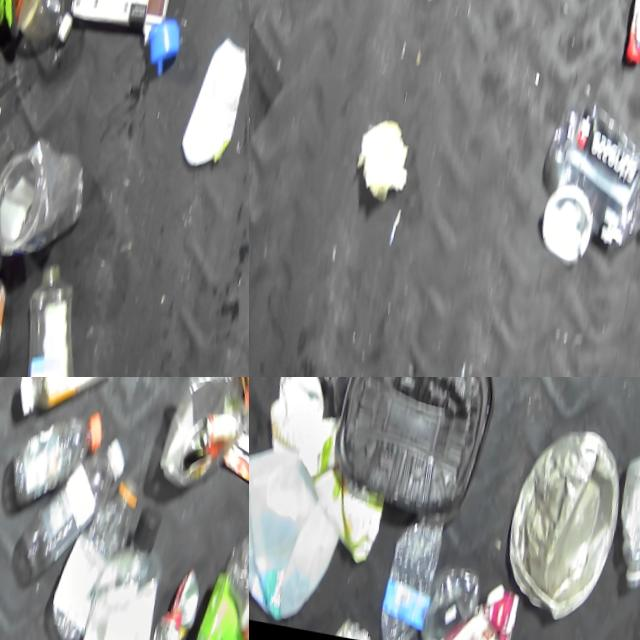can: (151, 553, 208, 640)
milk_jug: (249, 441, 347, 624)
plastic_bottle: (529, 81, 640, 264), (17, 416, 132, 585), (47, 460, 143, 640), (70, 489, 178, 640), (5, 392, 107, 516), (381, 501, 448, 640), (14, 377, 127, 427), (212, 522, 249, 640)
